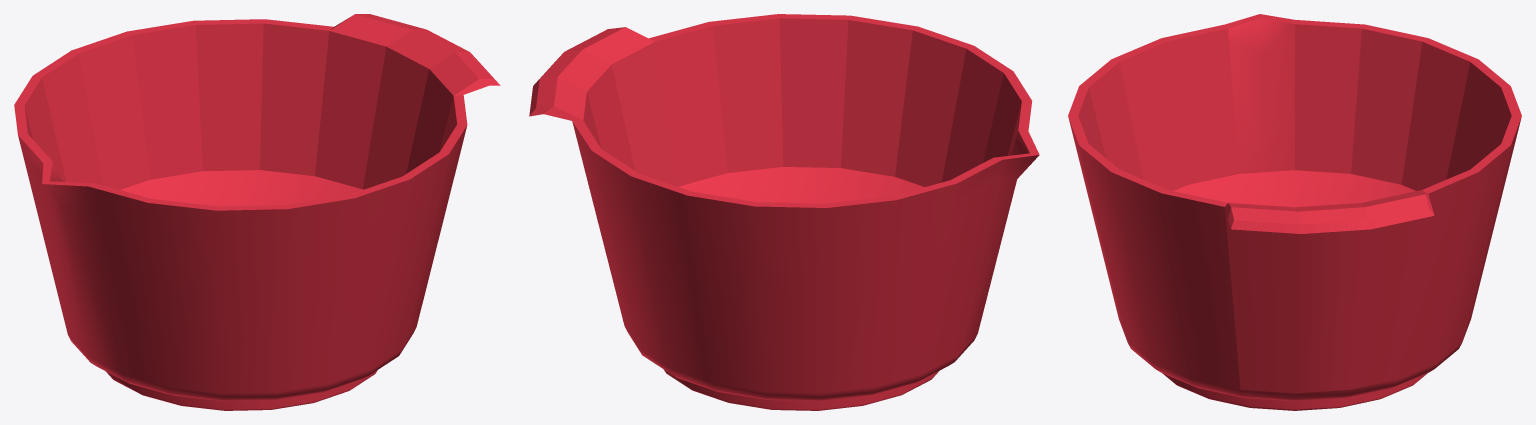
File: Bowl.fbx
3 renders of one model, left to right at view 1: azimuth 30°, elevation 25°; view 2: azimuth 150°, elevation 25°; view 3: azimuth 270°, elevation 25°, orthographic.
Parts seen in each view (by area): view 1: Bowl; view 2: Bowl; view 3: Bowl.
Part boxes in pixels (x1,y1,x2,y2): Bowl: (14,14,500,410); Bowl: (529,14,1039,410); Bowl: (1068,14,1521,410).
Bounding box in the file's own units: 0.4126 × 0.2119 × 0.3588.
